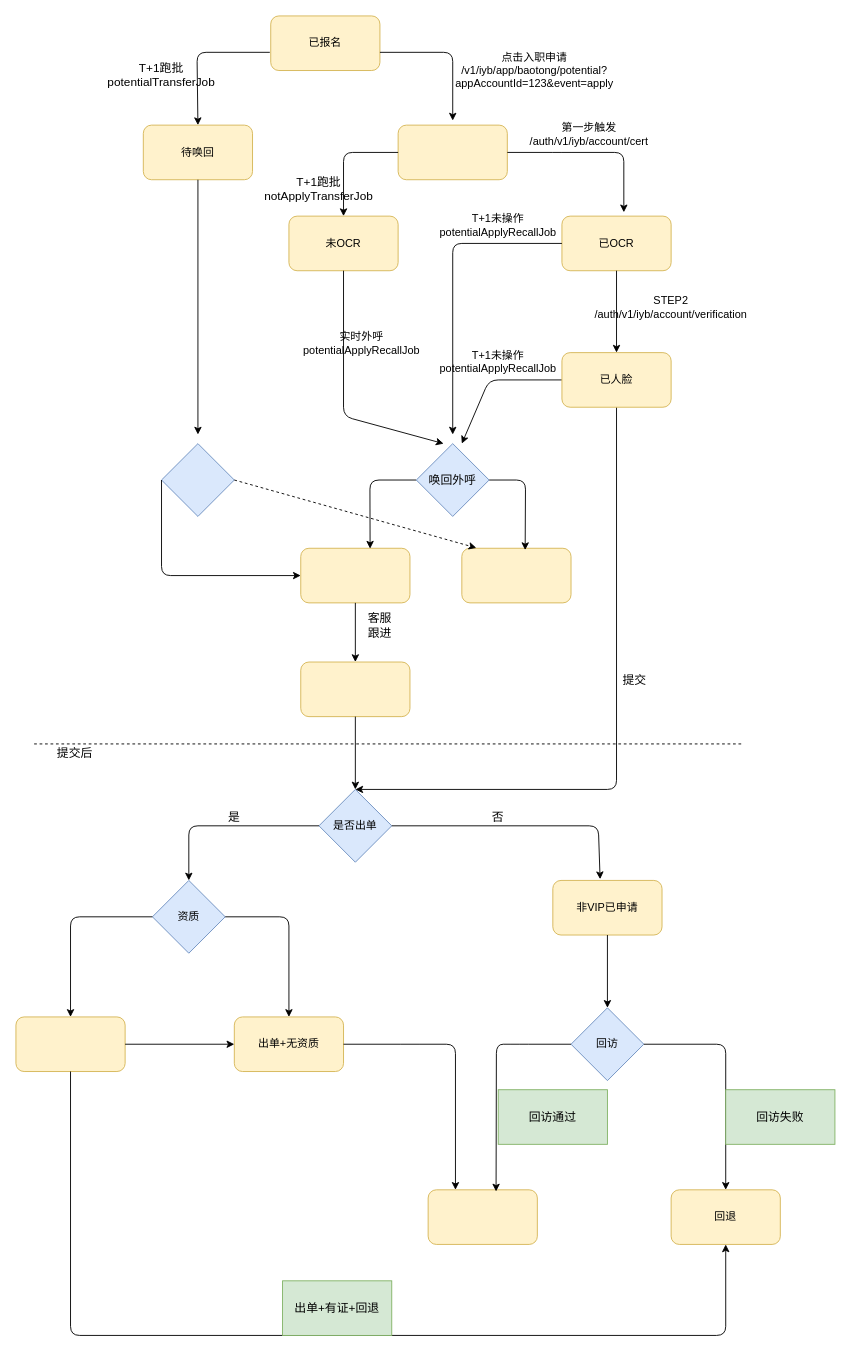
This 851x1359 diagram has some shape labels left out. The centre of each missing label's shape, as x and y in pixels:
出单+有资质: pixel 70 1044
在职: pixel 482 1216
客服操作: pixel 197 479
已处理: pixel 355 689
拒绝: pixel 516 575
有意向: pixel 355 575
未申请: pixel 452 152
